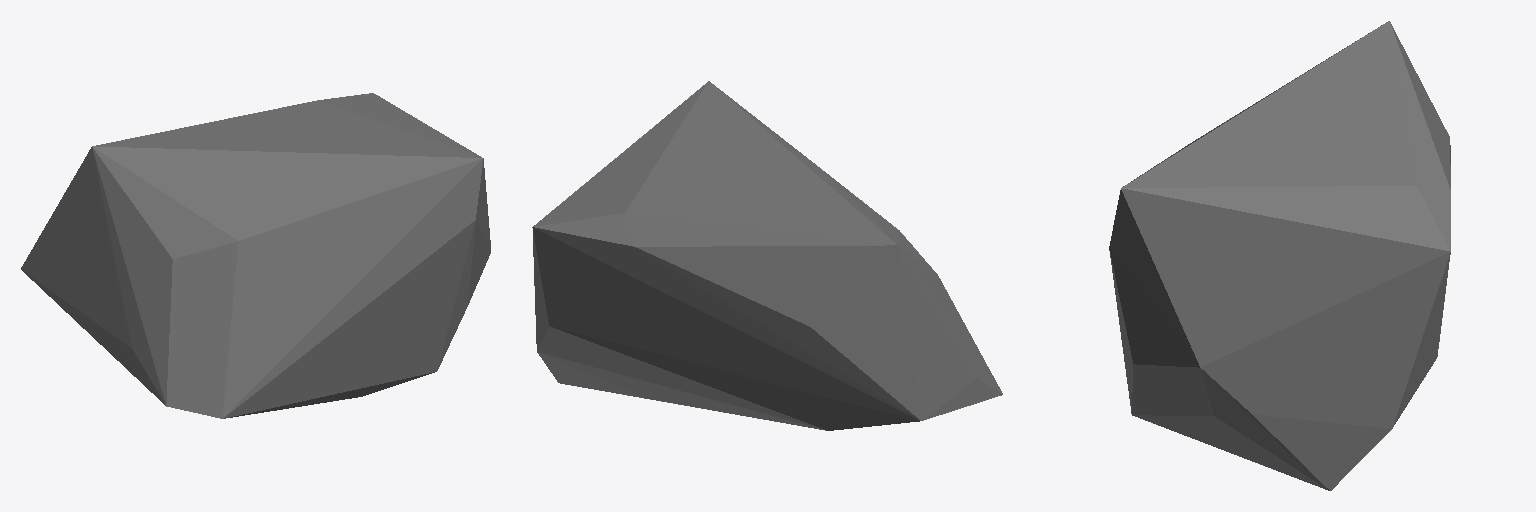
The robot description file, URDF, robot "20_648":
<?xml version="1.0"?>
<robot name="20_648">
  <link name="link">
    <contact>
      <lateral_friction value="0.6"/>
    </contact>
    <inertial>
      <mass value = "0.6382171857402603"/>
      <inertia ixx="0.00032985744817778457" ixy="-4.1810117701517947e-05" ixz="6.545601713074483e-07" iyy="0.0005500799203470308" iyz="2.8431563491409874e-05" izz="0.0005990639191251274" />
    </inertial>
    <visual name="visual">
      <geometry>
        <mesh filename="20_648.obj"/>
      </geometry>
      <material name="material">
        <color rgba="0.5130970532336327 0.5130970532336327 0.5130970532336327 1.0"/>
      </material>
    </visual>
    <collision name="collision">
      <geometry>
        <mesh filename="20_648.obj"/>
      </geometry>
    </collision>
  </link>
</robot>

--- What the picture shows (computed from the rendered views, not written in the file) ---
The picture shows the robot from 3 angles, left to right: view 1: azimuth 30°, elevation 25°; view 2: azimuth 150°, elevation 25°; view 3: azimuth 270°, elevation 25°; orthographic projection.
Model 20_648 with 1 links and 0 joints (none), rooted at link, posed all joints at 0.
Links seen in each view (by area): view 1: link; view 2: link; view 3: link.
Boxes of the visible links, x1,y1,x2,y2 form: link: (21,93,490,418); link: (532,81,1002,430); link: (1109,21,1450,490).
Bounding box of the posed robot: 0.1084 × 0.0695 × 0.0616 m (x, y, z).
Meshes: 1 distinct files referenced, 1 mesh visuals loaded (1 OBJ).
